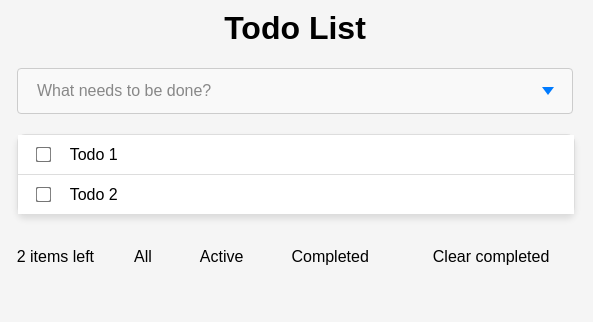
Test: проверяем основные функции приложения › новая задача добавляется в список
The image size is (593, 322).
Type "Todo 3" into the form.
click(296, 92); type("Todo 3")  # box x1=17 y1=69 x2=574 y2=115
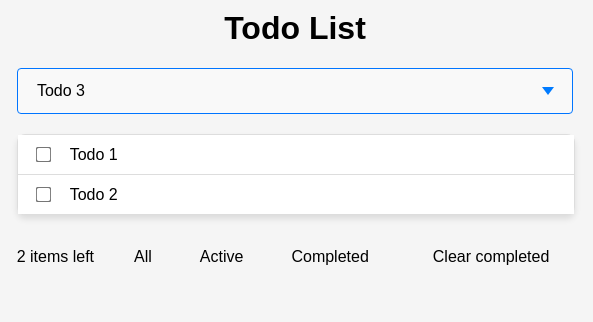
Submit the form, box x1=17 y1=69 x2=574 y2=115
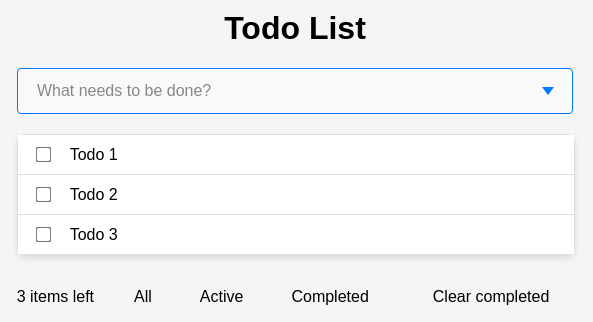
Check: the list item "Todo 3" is shown, box x1=18 y1=215 x2=574 y2=254
